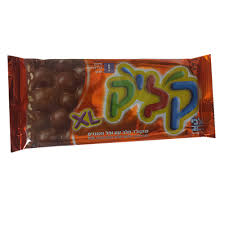Chocolate: (7, 54, 215, 147)
